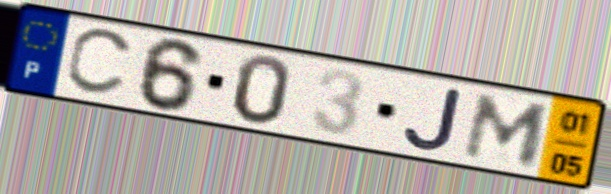0: (230, 52, 295, 127)
3: (310, 67, 370, 139)
6: (137, 36, 204, 114)
C: (61, 27, 138, 99)
J: (400, 85, 467, 154)
M: (459, 91, 556, 170)
